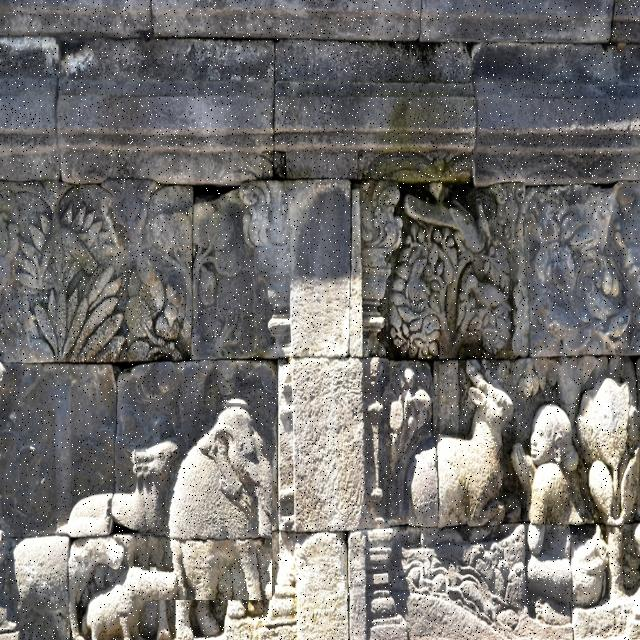elephant: (136, 395, 272, 600)
